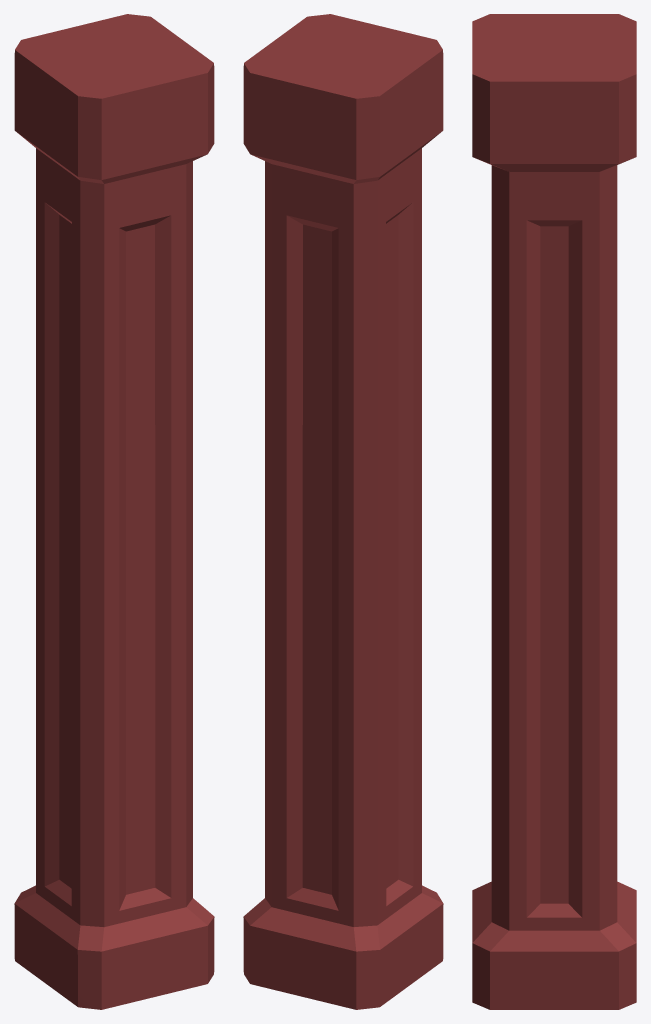
Rendered from O_V_Pilliar_CornerSmall.fbx.
The picture shows the model from 3 angles, left to right: view 1: azimuth 30°, elevation 25°; view 2: azimuth 150°, elevation 25°; view 3: azimuth 270°, elevation 25°; orthographic projection.
Visible parts, largest first — view 1: O_V_Pilliar_CornerSmall; view 2: O_V_Pilliar_CornerSmall; view 3: O_V_Pilliar_CornerSmall.
Part boxes in pixels (x1=…): O_V_Pilliar_CornerSmall: x1=14, y1=14, x2=214, y2=1009; O_V_Pilliar_CornerSmall: x1=243, y1=14, x2=443, y2=1009; O_V_Pilliar_CornerSmall: x1=472, y1=14, x2=636, y2=1009.
Size of the model in its own units: 1.02 by 6.5 by 1.04.
